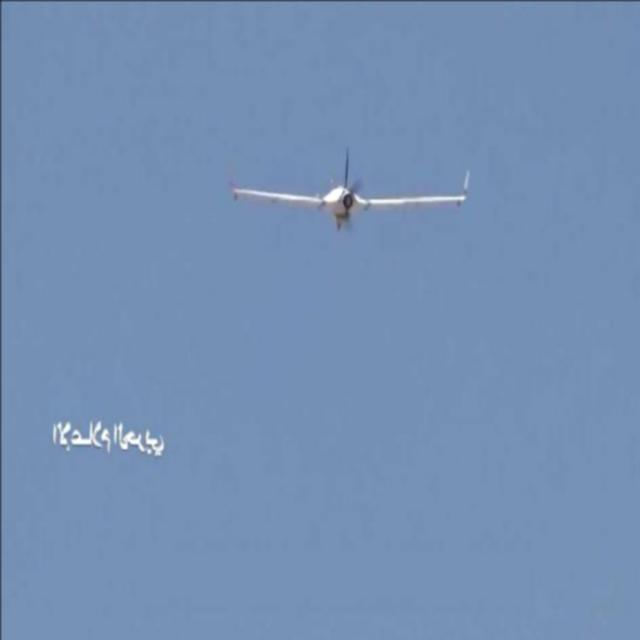plane: (226, 144, 468, 231)
